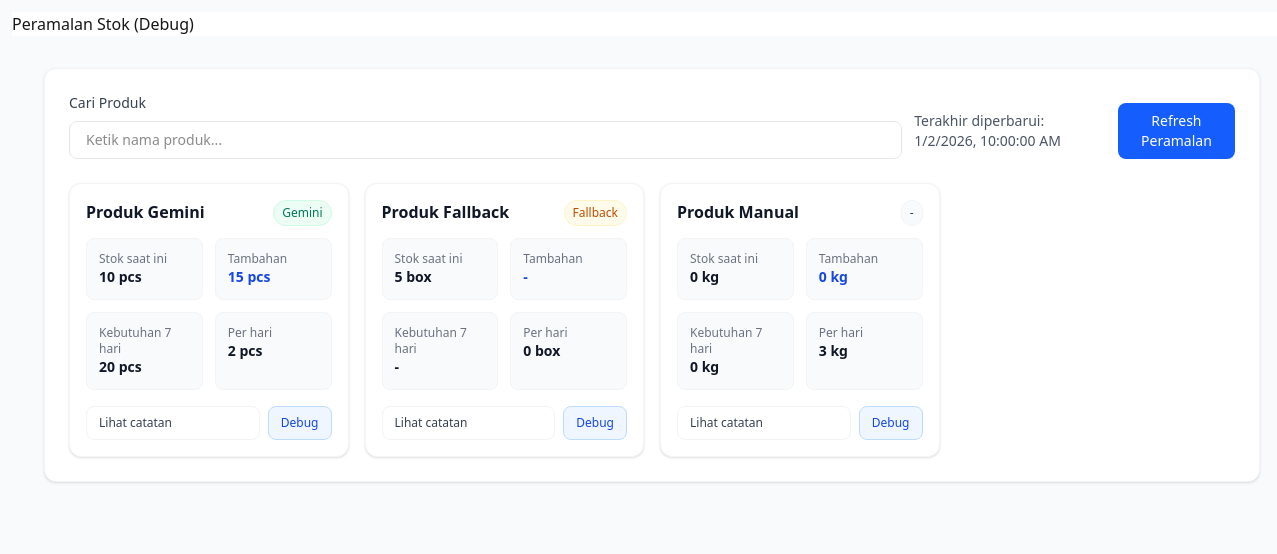
Test: recommendations-debug module › renders forecast cards with gemini, fallback and null method branches
This screenshot has width=1277, height=554.
Check: the text "Produk Gemini" is shown, box [86,200,205,224]
Check: the text "Produk Fallback" is shown, box [382,200,509,224]
// Toggle gemini note
Click the button "Lihat catatan" below "20 pcs" at [173, 423], box [86,406,260,440]
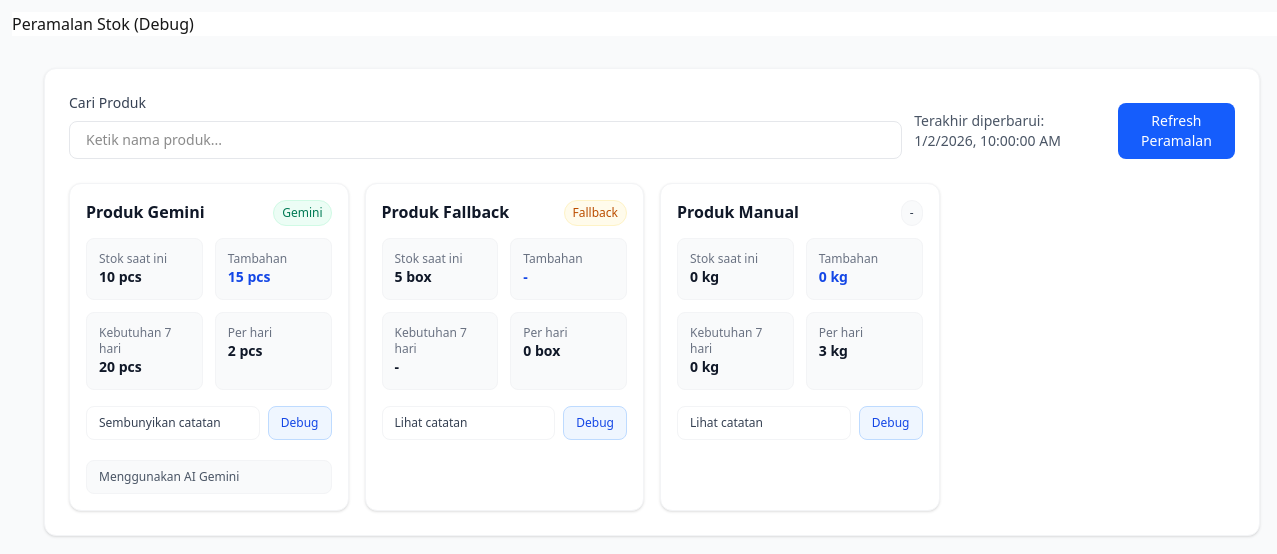
Check: the button "Sembunyikan catatan" is shown, box [86,406,260,440]
Check: the text "Menggunakan AI Gemini" is shown, box [86,460,332,494]
// Toggle fallback note (single-select pattern: this closes gemini note)
Click the button "Lihat catatan" below "Produk Fallback" at [468, 423], box [382,406,555,440]
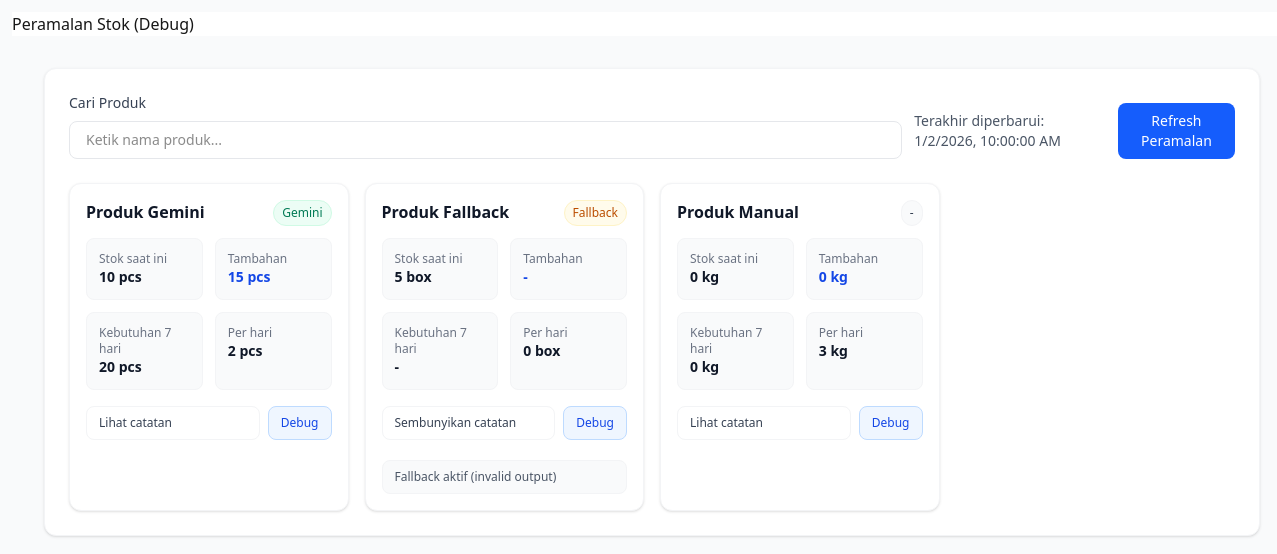
Check: the text "Terakhir diperbarui: 1/2/2026, 10:00:00 AM" is shown, box [914,111,1061,150]
Check: the text "Fallback aktif (invalid output)" is shown, box [382,460,627,494]
